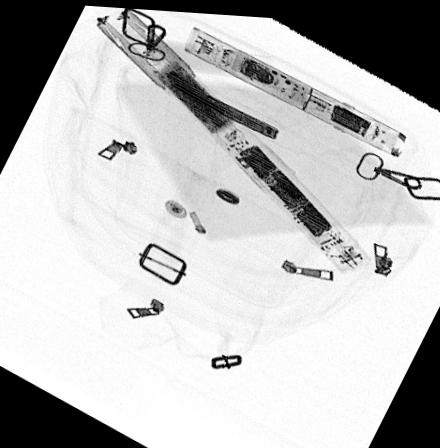Baton: (95, 6, 370, 268), (180, 22, 406, 152)
